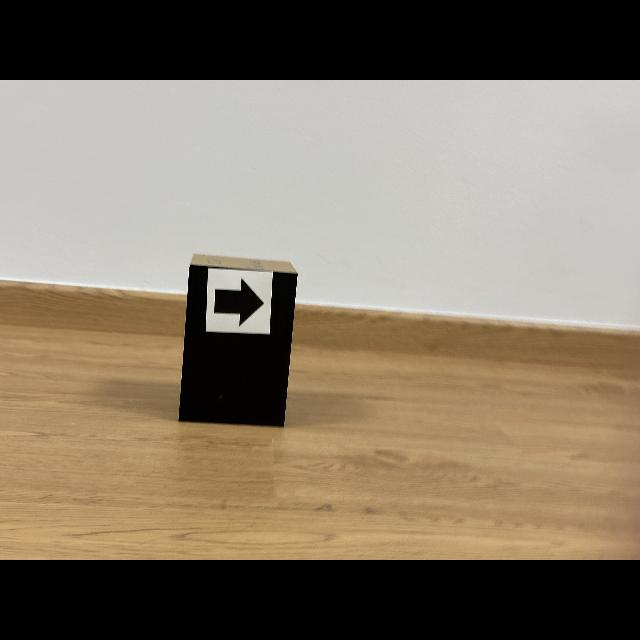RIGHT: (214, 278, 264, 326)
